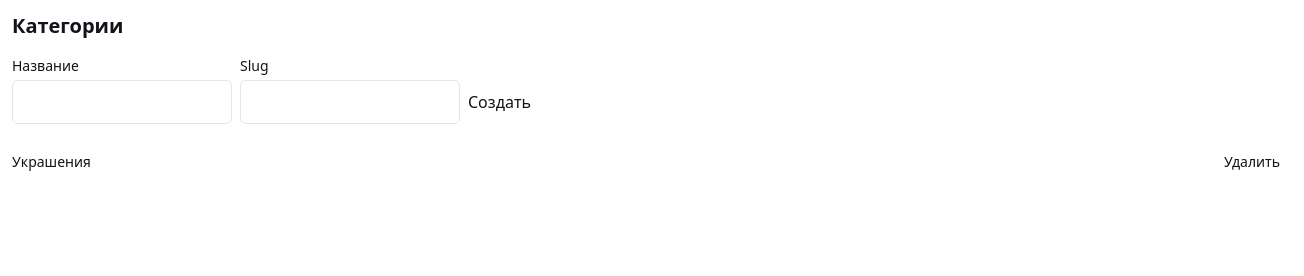
Test: AdminCategoriesPage › ошибку создания или удаления показывает алертом
Click the button "Удалить".
click(1252, 162)  # box [1212,140,1292,184]
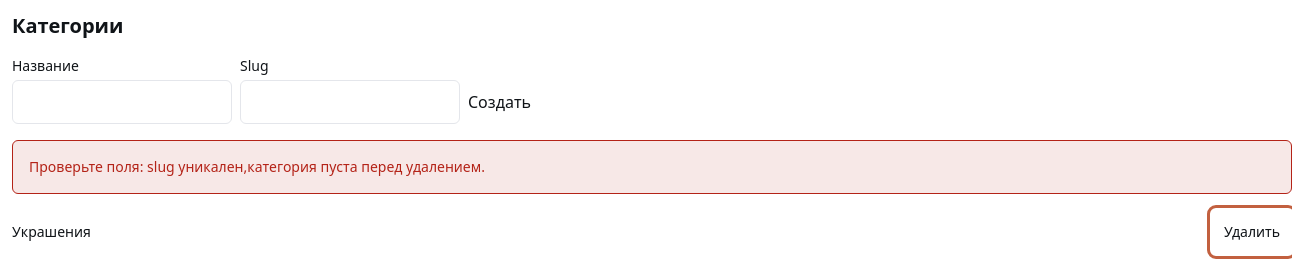
expect the message "Проверьте поля: slug уникален,категория пуста перед удалением." is shown: met, box [12,140,1292,194]
